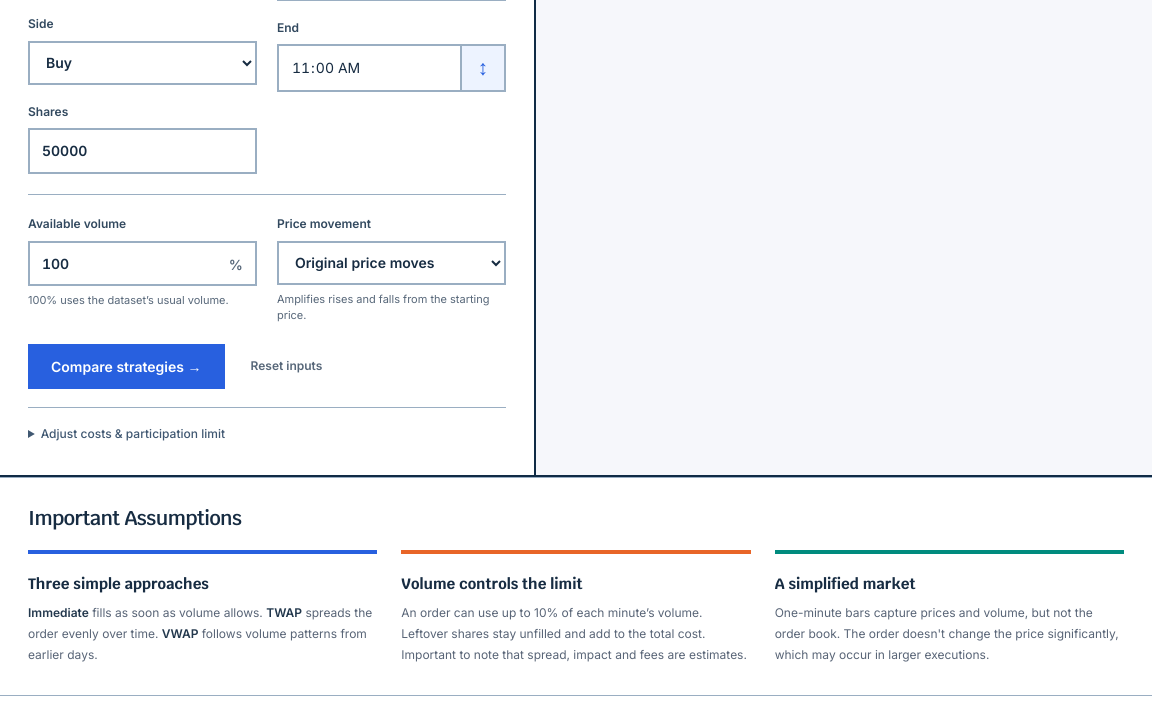
keeps the previous result and its exports after a failed comparison
(page scrolled)
Click the button "Compare strategies →": [126, 366] box [28,344,224,389]
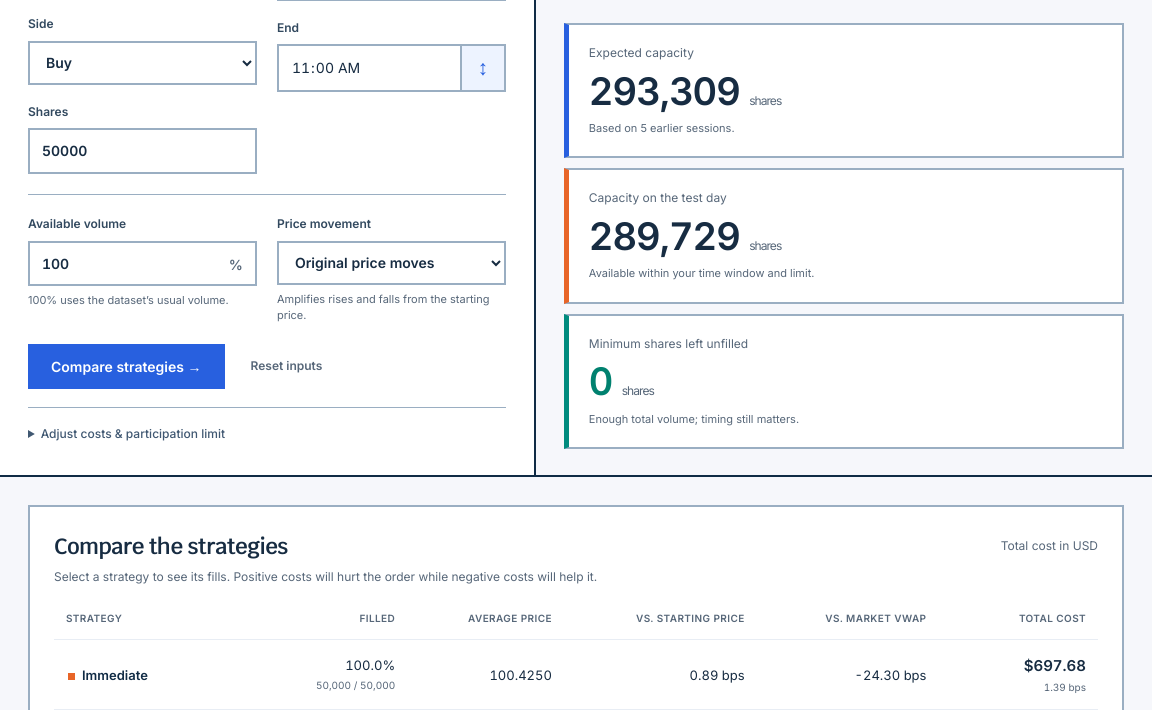
Select "Sell" in the dropdown labelled "Side": [142, 63] box [28,41,257,85]
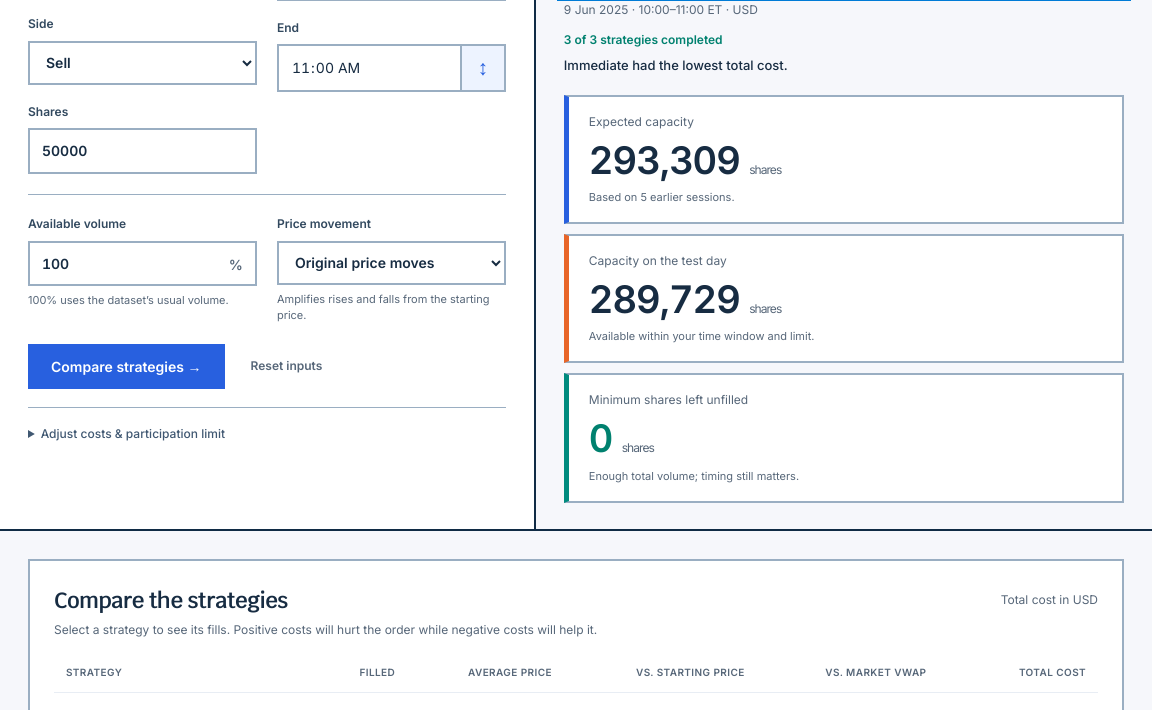
Click the button "Compare strategies →": [126, 366] box [28,344,224,389]
(page scrolled)
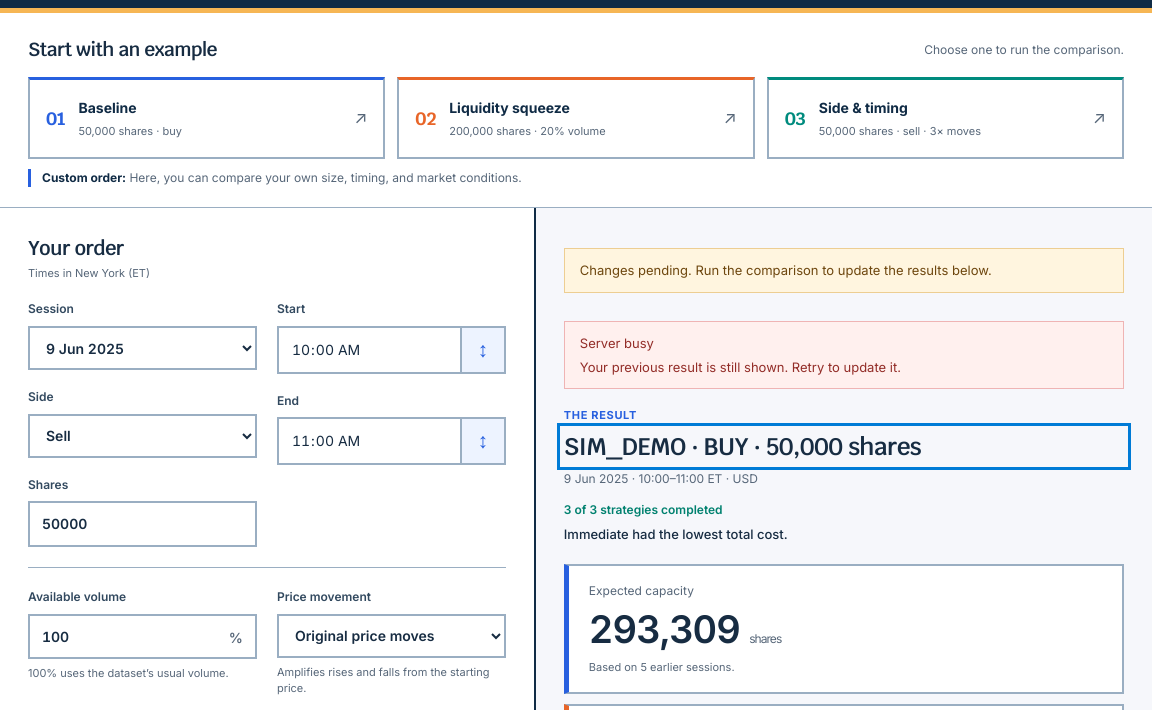
Expected: the message "Server busy Your previous result is still shown. Retry to update it." is shown, [564,321,1124,389]
Expected: the text "Your previous result is still shown. Retry to update it." is shown, [580,359,901,375]
